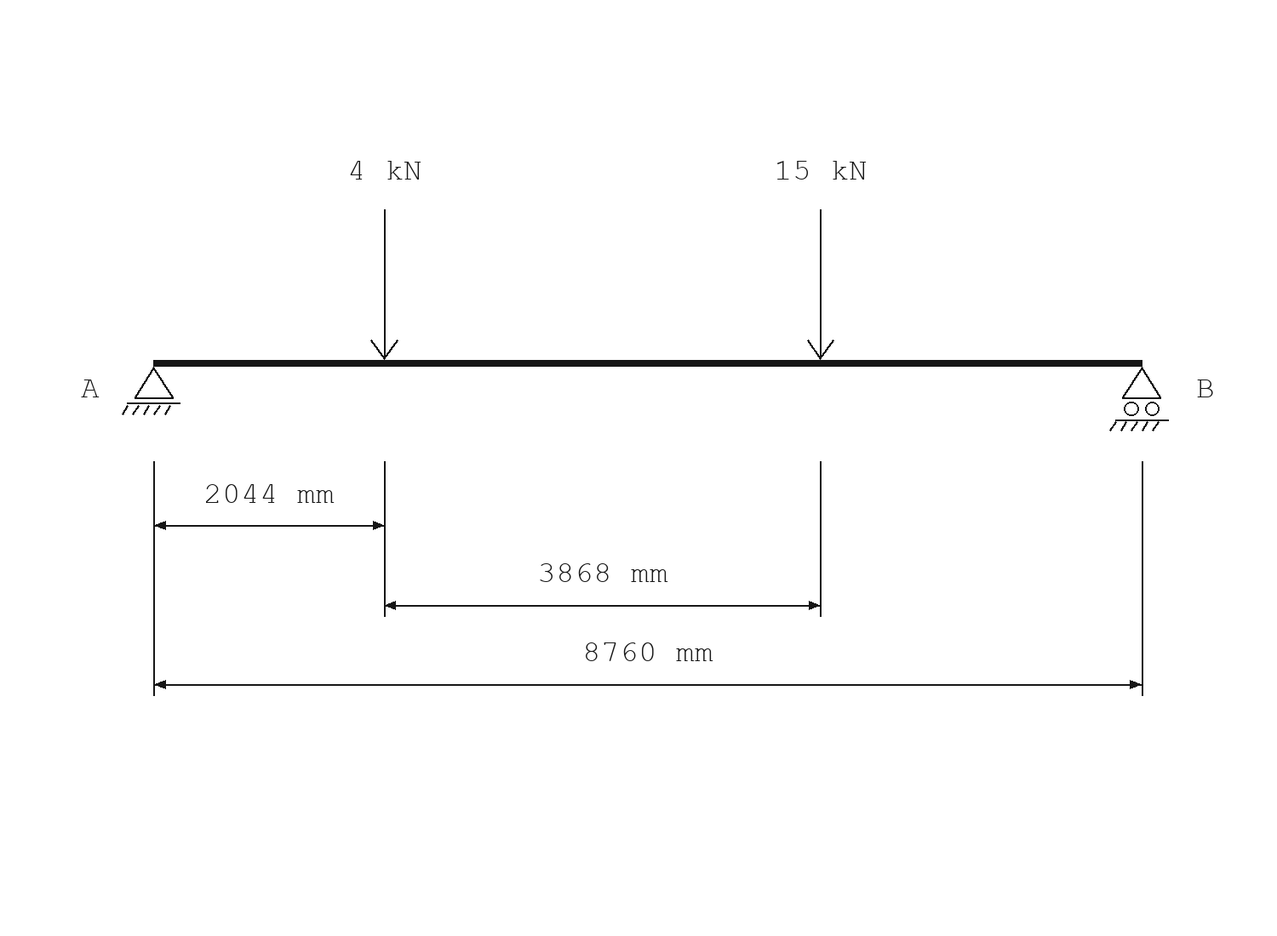pin_support: (122, 367, 180, 415)
point_load: (370, 209, 398, 360), (807, 209, 834, 360)
roller_support: (1109, 367, 1169, 431)
